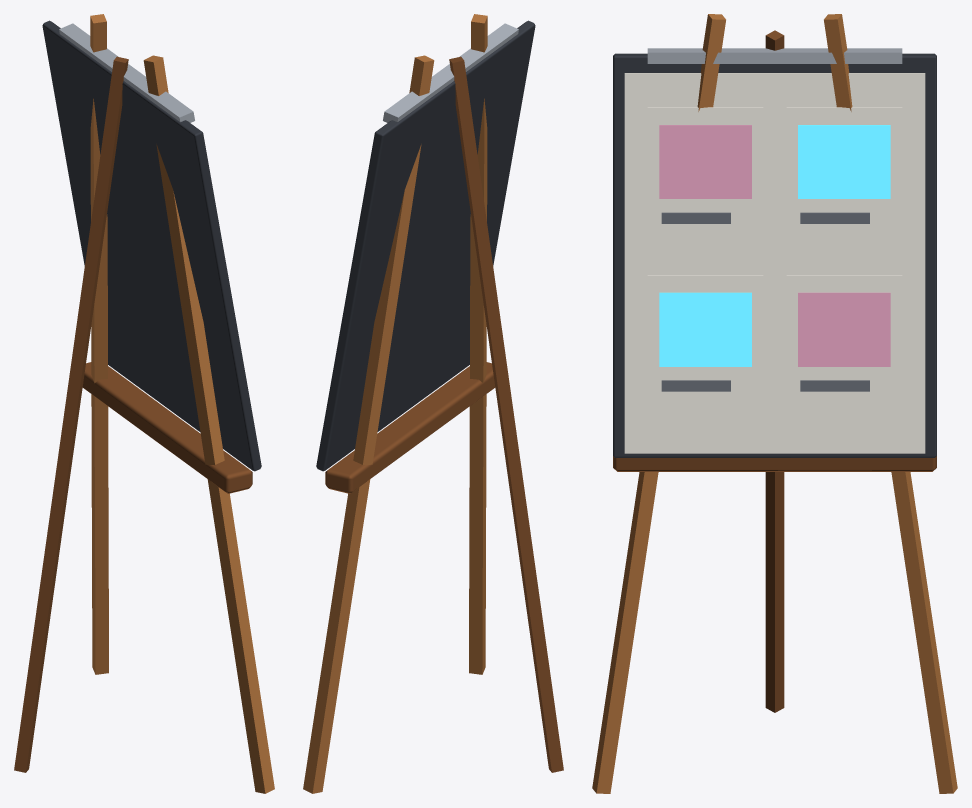
The model's file is station_intake_ausstattung_1_1.glb.
3 views of the same model, side by side, from view 1: azimuth 30°, elevation 25°; view 2: azimuth 150°, elevation 25°; view 3: azimuth 270°, elevation 25° (orthographic). The views are drawn at different scales.
Parts seen in each view (by area): view 1: station_intake_ausstattung_1_1; view 2: station_intake_ausstattung_1_1; view 3: station_intake_ausstattung_1_1.
Part boxes in pixels (left/top/right/bottom): station_intake_ausstattung_1_1: left=14, top=14, right=274, bottom=793; station_intake_ausstattung_1_1: left=303, top=14, right=563, bottom=793; station_intake_ausstattung_1_1: left=592, top=14, right=957, bottom=793.
Bounding box in the file's own units: 0.3716 × 1.43 × 0.6316.
